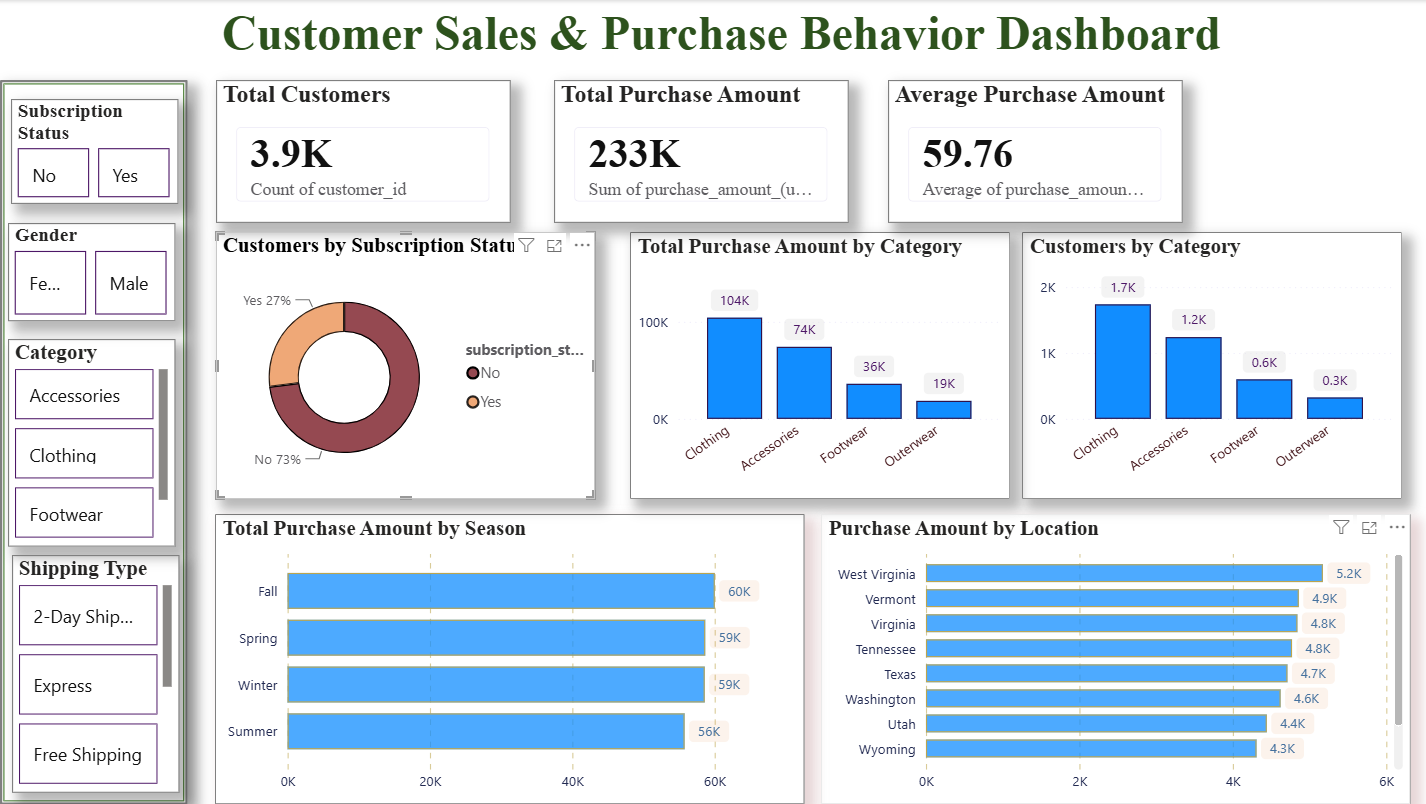

This screenshot's page, from the dashboard's own definition file:
{"tool":"powerbi","page":{"name":"Page 1","canvas":[1280,720],"ordinal":0},"visuals":[{"type":"shape","box":[0,71.3,168,649.1],"z":0},{"type":"donutChart","title":"Customers by Subscription Status","fields":{"Category":["public customer.subscription_status"],"Y":["CountNonNull(public customer.customer_id)"]},"box":[193.4,207.9,339.6,239.3],"z":1000},{"type":"clusteredColumnChart","title":"Total Purchase Amount by Category","fields":{"Category":["public customer.category"],"Y":["Sum(public customer.purchase_amount_(usd))"]},"box":[564.5,207.9,339.6,239.3],"z":2000},{"type":"clusteredColumnChart","title":"Customers by Category","fields":{"Category":["public customer.category"],"Y":["CountNonNull(public customer.customer_id)"]},"box":[915,207.9,339.6,239.3],"z":3000},{"type":"advancedSlicerVisual","title":"Gender","fields":{"Values":["public customer.gender"]},"box":[7.3,199.4,149.9,88.2],"z":4000},{"type":"advancedSlicerVisual","title":"Subscription Status","fields":{"Values":["public customer.subscription_status"]},"box":[9.7,88.2,149.9,94.3],"z":5000},{"type":"advancedSlicerVisual","title":"Category","fields":{"Values":["public customer.category"]},"box":[7.3,303.4,149.9,186.1],"z":6000},{"type":"advancedSlicerVisual","title":"Shipping Type","fields":{"Values":["public customer.shipping_type"]},"box":[10.9,496.8,149.9,212.7],"z":7000},{"type":"clusteredBarChart","title":"Total Purchase Amount by Season","fields":{"Y":["Sum(public customer.purchase_amount_(usd))"],"Category":["public customer.season"]},"box":[192.2,460.5,528.2,259.9],"z":8000},{"type":"clusteredBarChart","title":"Purchase Amount by Location","fields":{"Y":["Sum(public customer.purchase_amount_(usd))"],"Category":["public customer.location"]},"box":[734.9,460.5,528.2,259.9],"z":9000},{"type":"textbox","box":[11.2,0,1268.8,64.5],"z":10000},{"type":"cardVisual","title":"Total Customers","fields":{"Data":["CountNonNull(public customer.customer_id)"]},"box":[193.5,71.5,263.6,127.6],"z":11000},{"type":"cardVisual","title":"Total Purchase Amount","fields":{"Data":["Sum(public customer.purchase_amount_(usd))"]},"box":[496.3,71.5,263.6,127.6],"z":12000},{"type":"cardVisual","title":"Average Purchase Amount","fields":{"Data":["Avg(public customer.purchase_amount_(usd))"]},"box":[794.9,71.5,263.6,127.6],"z":13000}]}

Visuals, with their boxes in screenshot pixels (x1, y1, x2, y2), scaled from the page's 1280x720 canvas onto the 1426x804 screenshot:
shape: {"x1": 0, "y1": 80, "x2": 187, "y2": 803}
"Customers by Subscription Status" donutChart: {"x1": 215, "y1": 232, "x2": 594, "y2": 499}
"Total Purchase Amount by Category" clusteredColumnChart: {"x1": 629, "y1": 232, "x2": 1007, "y2": 499}
"Customers by Category" clusteredColumnChart: {"x1": 1019, "y1": 232, "x2": 1398, "y2": 499}
"Gender" advancedSlicerVisual: {"x1": 8, "y1": 223, "x2": 175, "y2": 321}
"Subscription Status" advancedSlicerVisual: {"x1": 11, "y1": 98, "x2": 178, "y2": 204}
"Category" advancedSlicerVisual: {"x1": 8, "y1": 339, "x2": 175, "y2": 547}
"Shipping Type" advancedSlicerVisual: {"x1": 12, "y1": 555, "x2": 179, "y2": 792}
"Total Purchase Amount by Season" clusteredBarChart: {"x1": 214, "y1": 514, "x2": 803, "y2": 803}
"Purchase Amount by Location" clusteredBarChart: {"x1": 819, "y1": 514, "x2": 1407, "y2": 803}
textbox: {"x1": 12, "y1": 0, "x2": 1425, "y2": 72}
"Total Customers" cardVisual: {"x1": 216, "y1": 80, "x2": 509, "y2": 222}
"Total Purchase Amount" cardVisual: {"x1": 553, "y1": 80, "x2": 847, "y2": 222}
"Average Purchase Amount" cardVisual: {"x1": 886, "y1": 80, "x2": 1179, "y2": 222}
